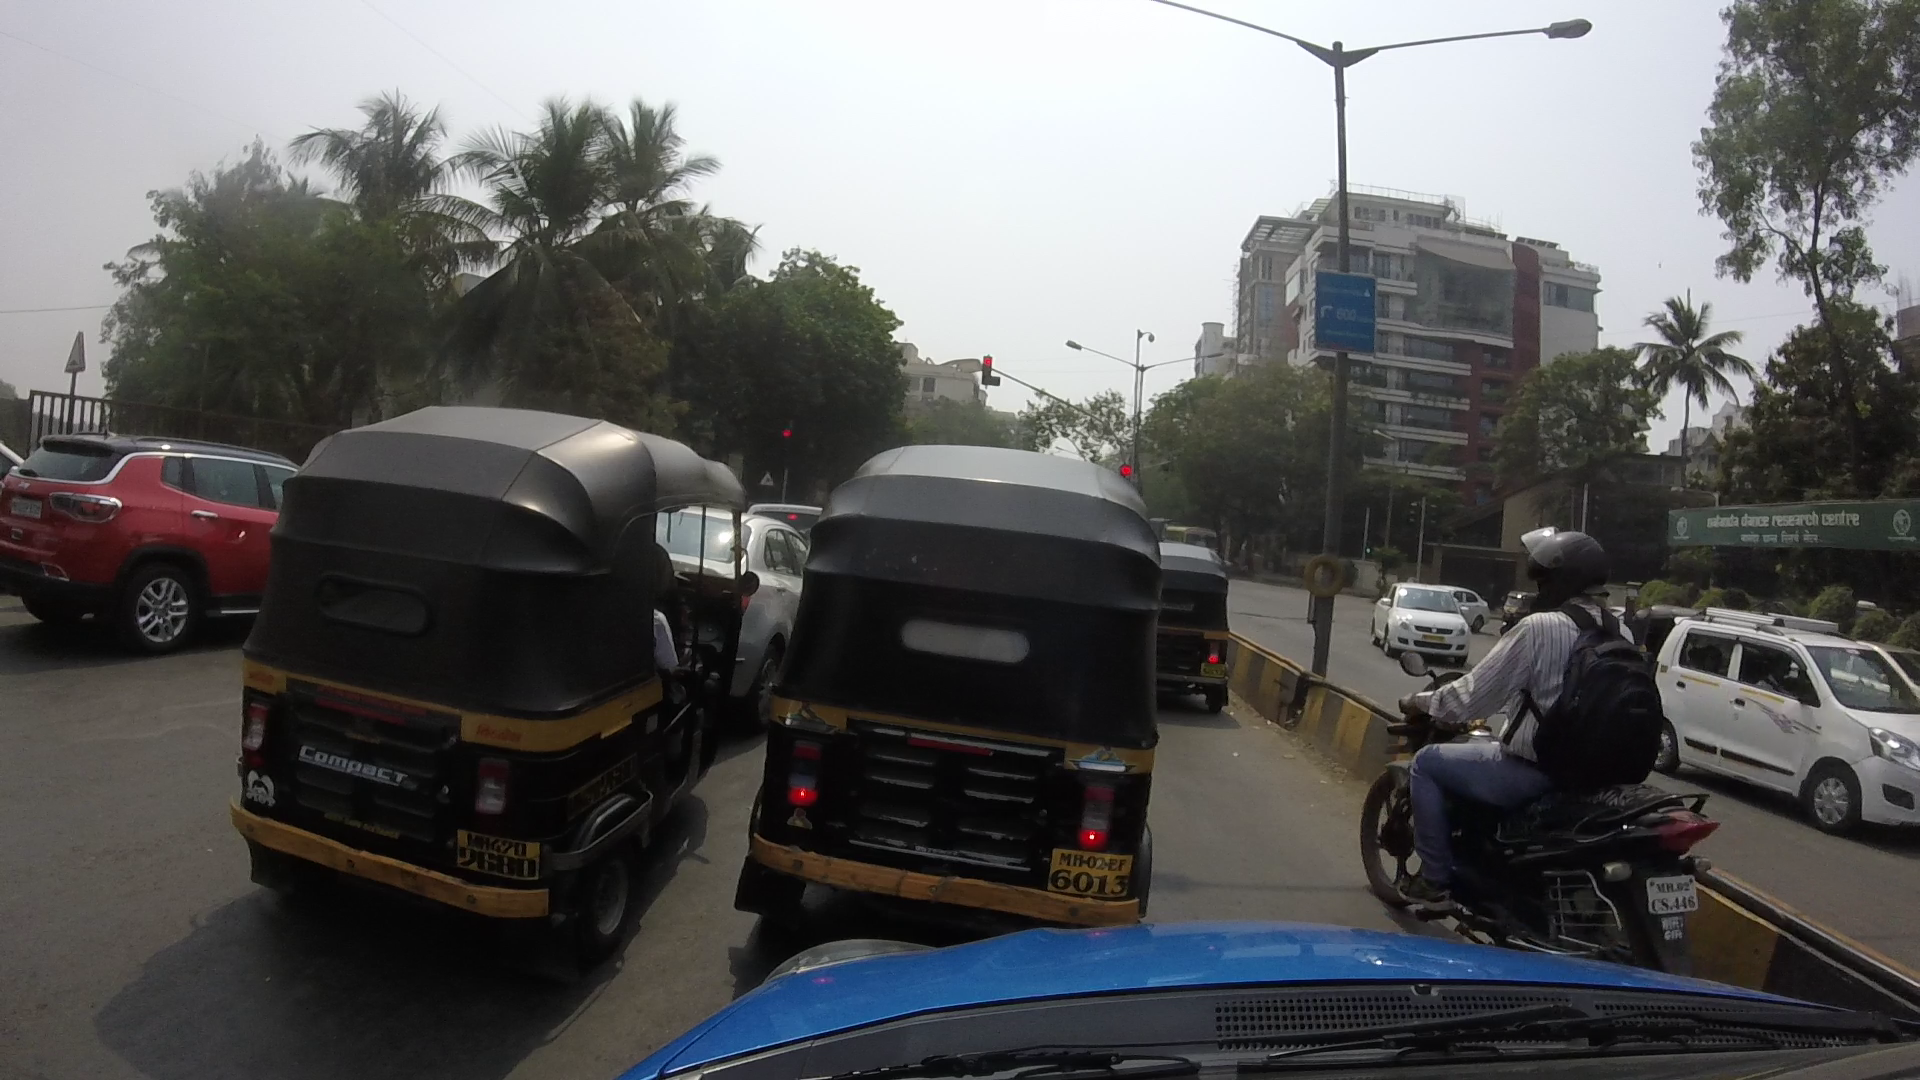bike/scooter: (1374, 513, 1712, 957)
car: (11, 392, 307, 659), (1625, 582, 1920, 841), (1360, 545, 1480, 695)
rickshaw: (233, 413, 742, 957), (774, 422, 1192, 951), (1139, 522, 1254, 707)
